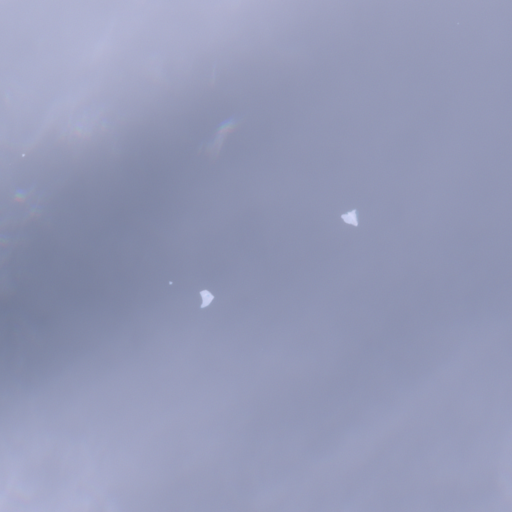Iceberg: (341, 210, 357, 225), (200, 290, 213, 307), (169, 281, 172, 284), (22, 154, 24, 156)
